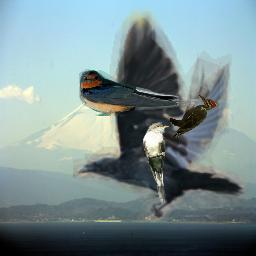Crow: (73, 9, 246, 221)
Cuckoo: (143, 122, 169, 204)
Swallow: (77, 68, 198, 116)
Woodpecker: (170, 95, 217, 138)
